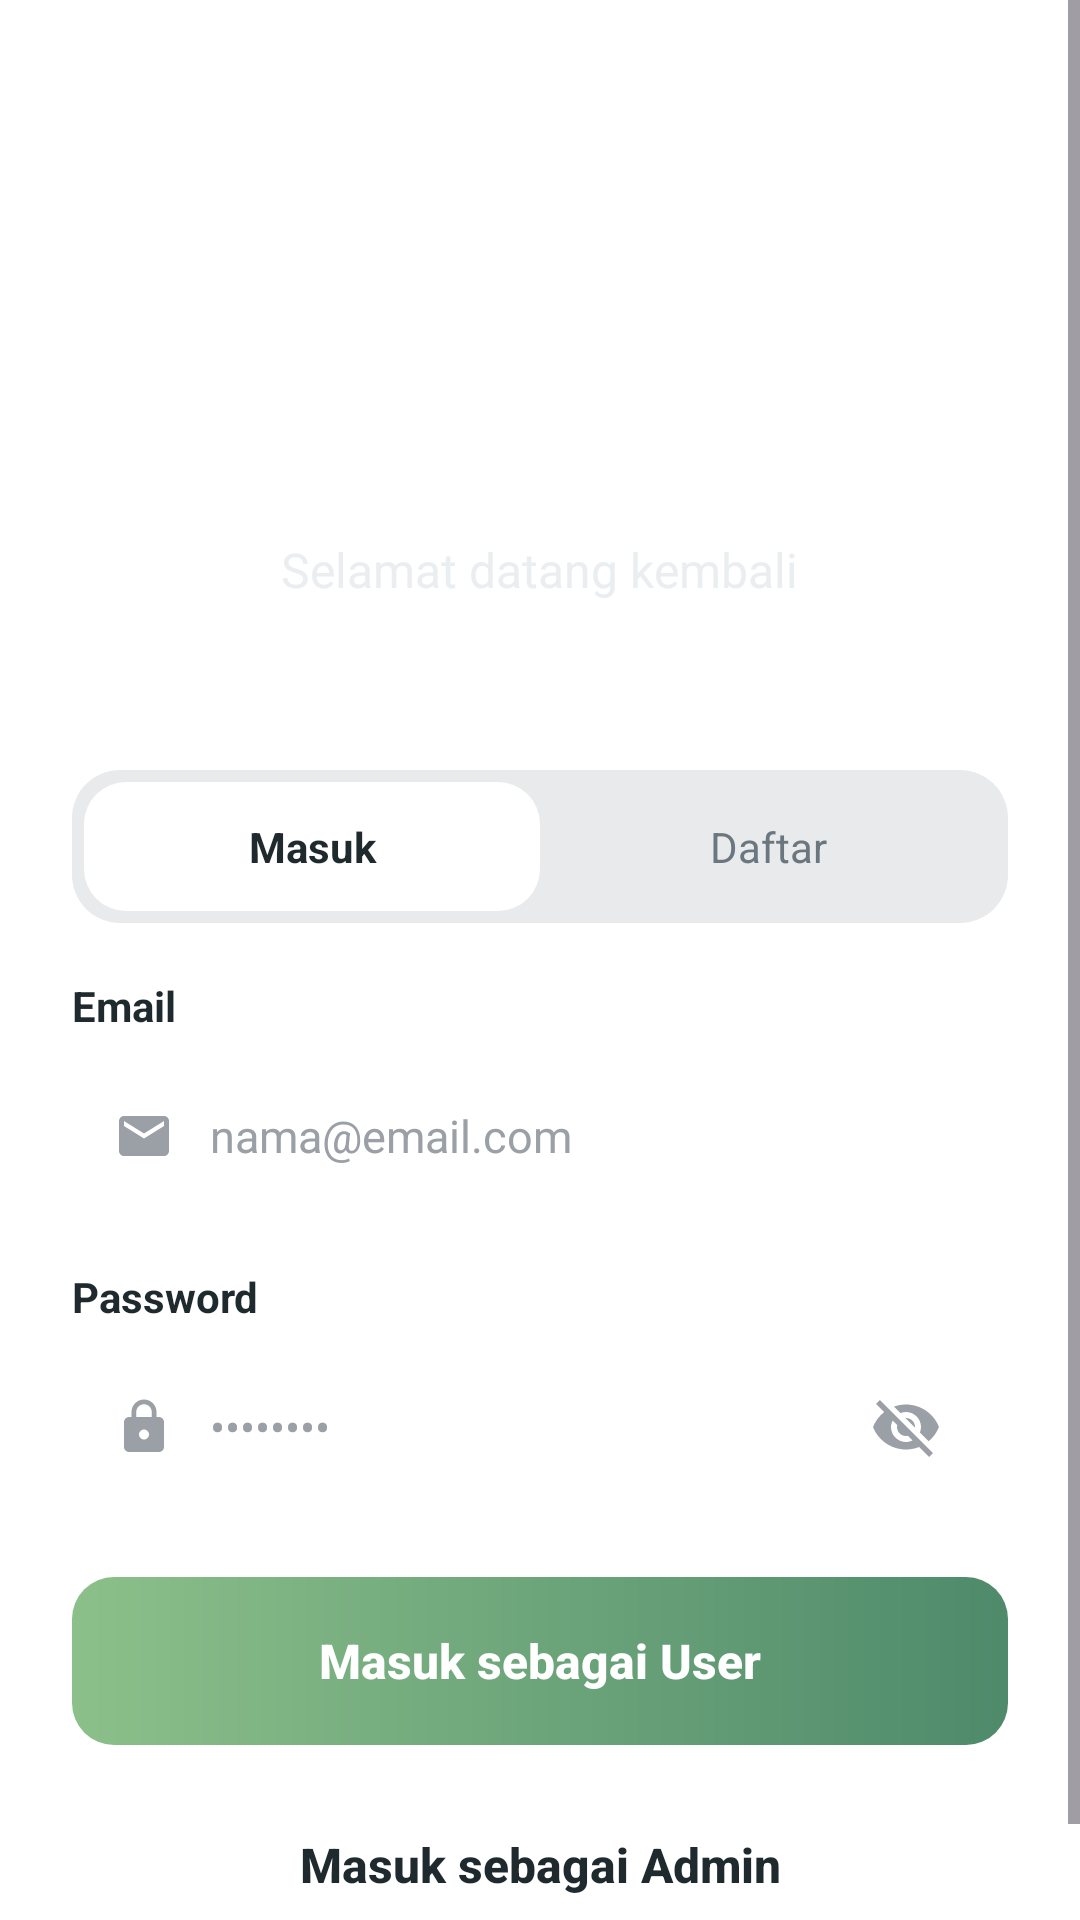

Point at icon controls on the screen. Image size 1080x1920, points as point (x, y).
lock: point (144, 1425)
Tampilkan password: point (906, 1428)
